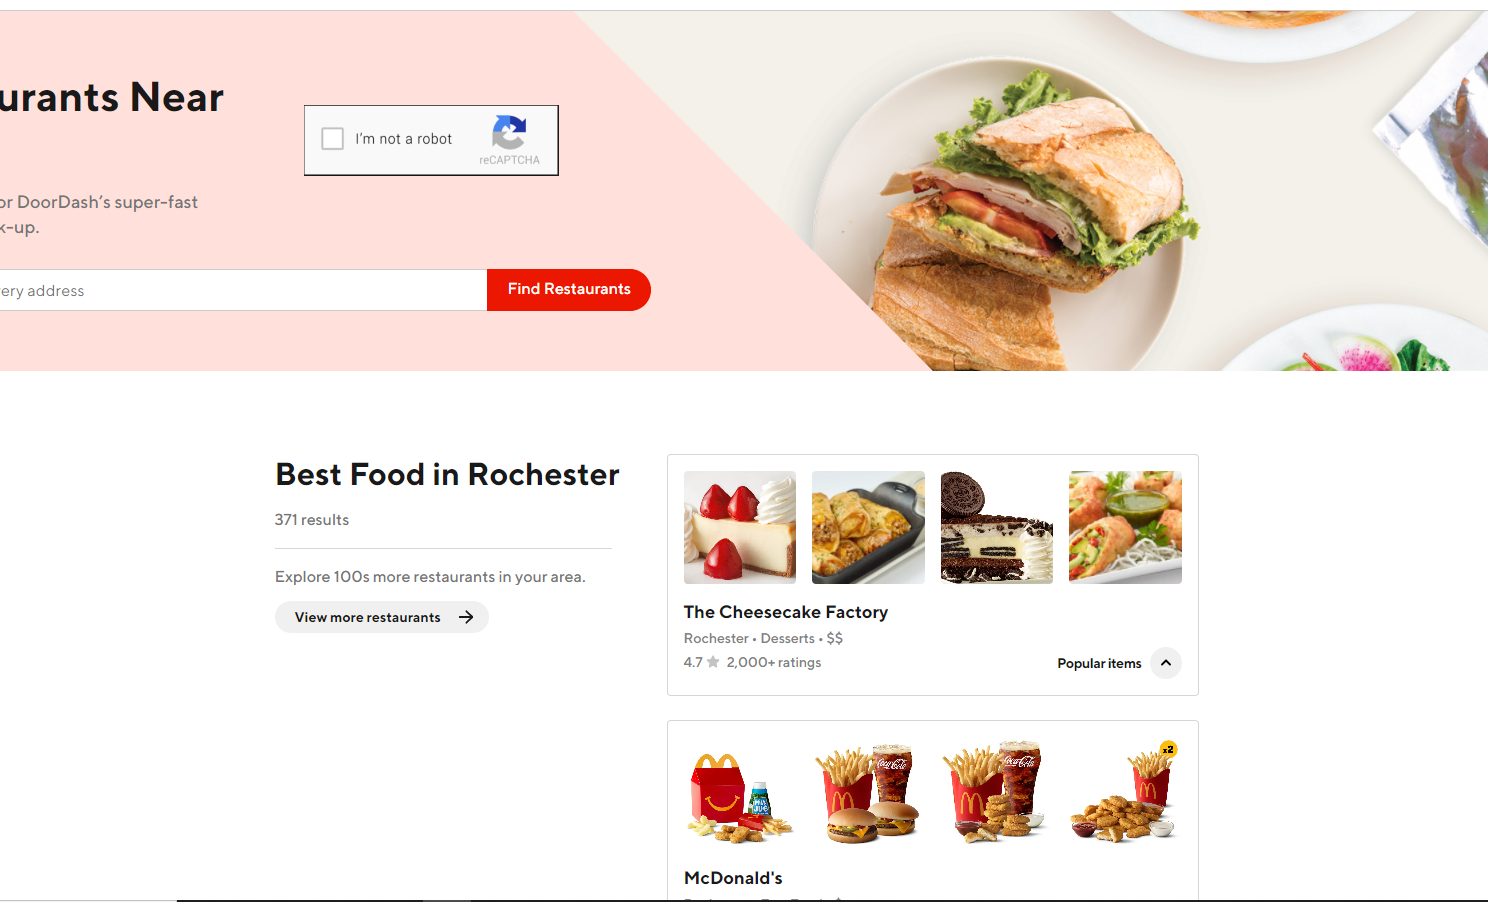captcha: (298, 103, 570, 183)
